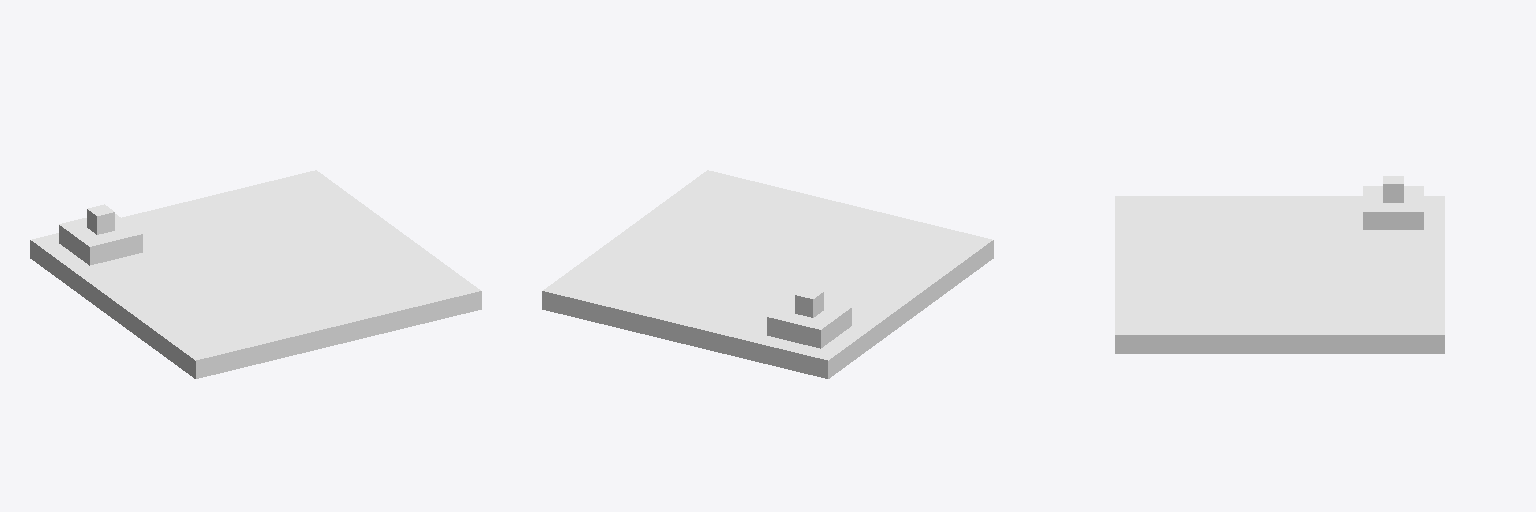
File: grass1.obj
3 views of the same model, side by side, from view 1: azimuth 30°, elevation 25°; view 2: azimuth 150°, elevation 25°; view 3: azimuth 270°, elevation 25° (orthographic).
Parts seen in each view (by area): view 1: grass1; view 2: grass1; view 3: grass1.
Part boxes in pixels (x1,y1,x2,y2): grass1: (30,170,481,378); grass1: (542,170,993,378); grass1: (1115,176,1444,353).
Bounding box in the file's own units: 16 × 3 × 16.